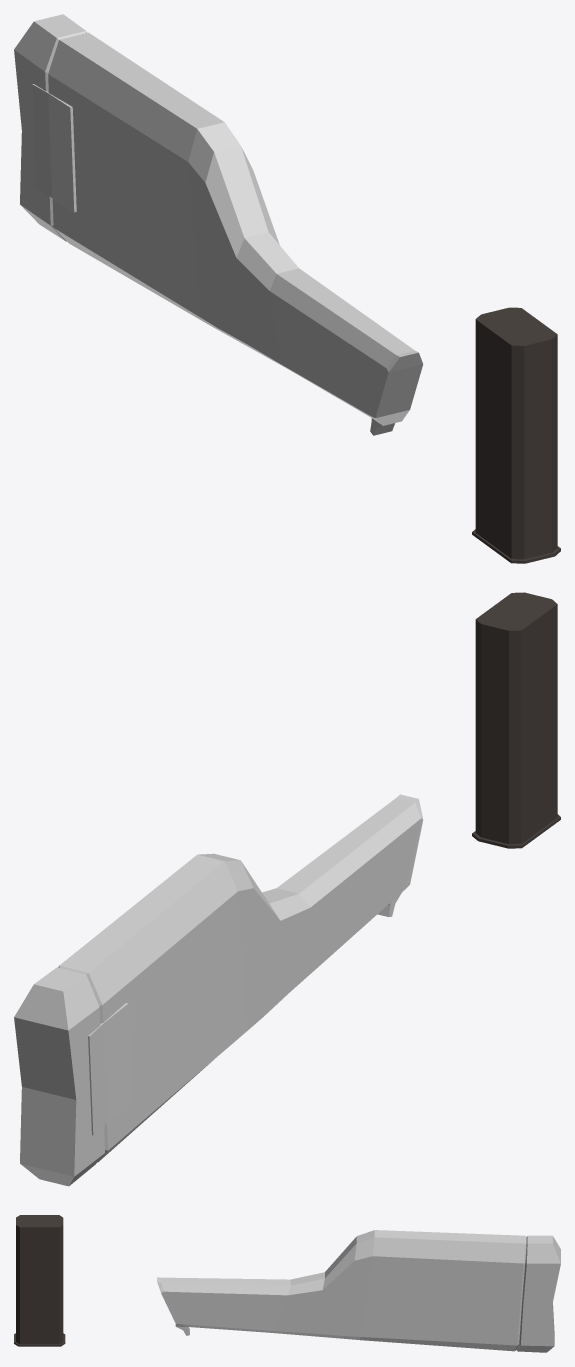
Rendered from C96_Gun.glb.
3 views of the same model, one above another, from view 1: azimuth 30°, elevation 25°; view 2: azimuth 150°, elevation 25°; view 3: azimuth 270°, elevation 25° (orthographic). The views are drawn at different scales.
Visible parts, largest first — view 1: Stock, BroomhandleMag; view 2: Stock, BroomhandleMag; view 3: Stock, BroomhandleMag.
Part boxes in pixels (x1,y1,x2,y2): Stock: (14,14,423,435); BroomhandleMag: (472,307,560,563); Stock: (14,794,423,1186); BroomhandleMag: (472,592,560,848); Stock: (157,1230,560,1352); BroomhandleMag: (14,1215,65,1346).
Size of the model in its own units: 0.0403 by 0.159 by 0.618.
2 materials, 1 textured.
